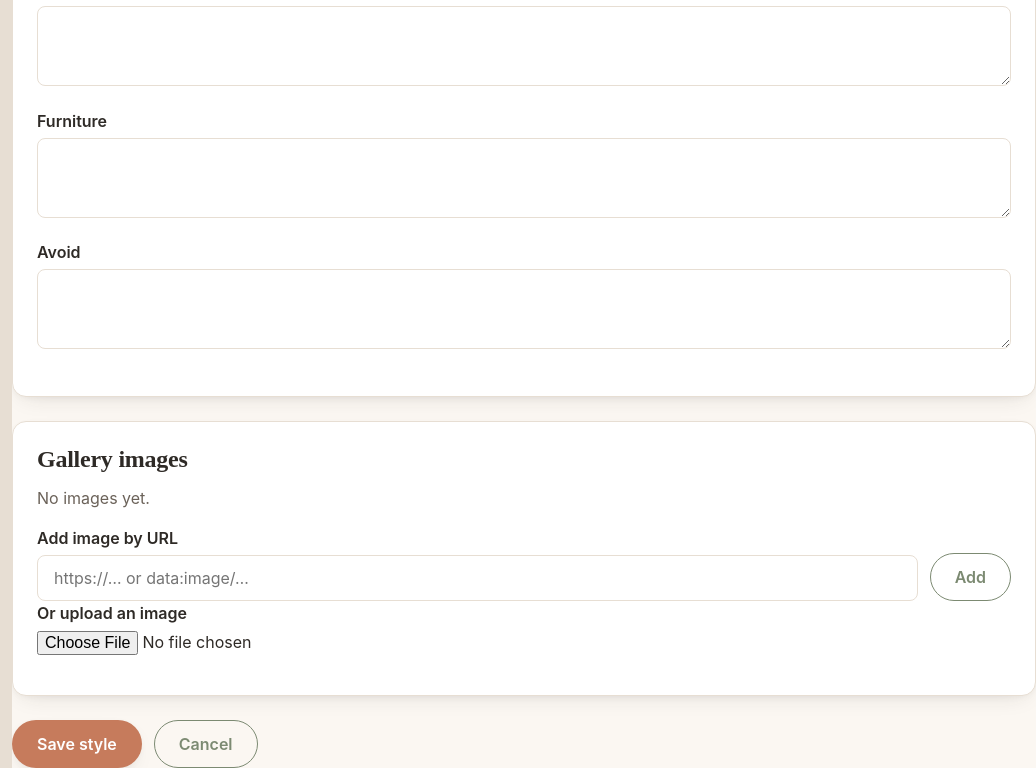
it: StyleEditPage › create mode › does not save when required fields are missing
(page scrolled)
Click the button "Save style" at (77, 744), box [12,720,142,767]
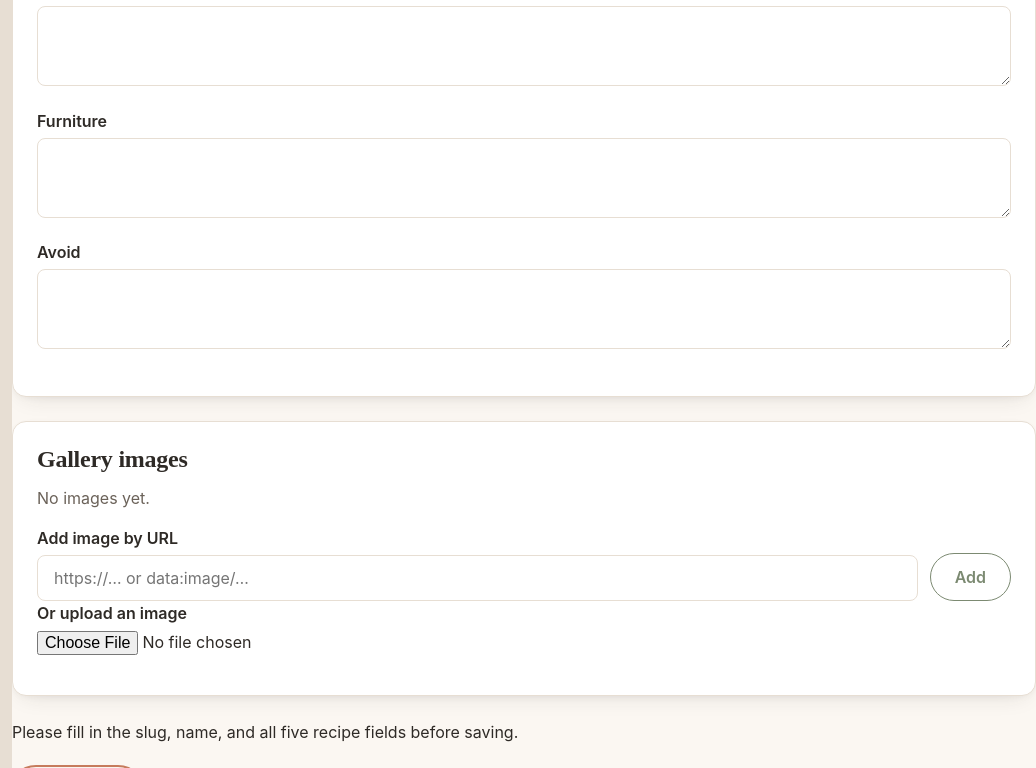
Now the message "Please fill in the slug, name, and all five recipe fields before saving." is shown, box [12,722,518,742]
